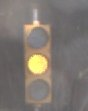Yellow: (21, 13, 61, 106)
